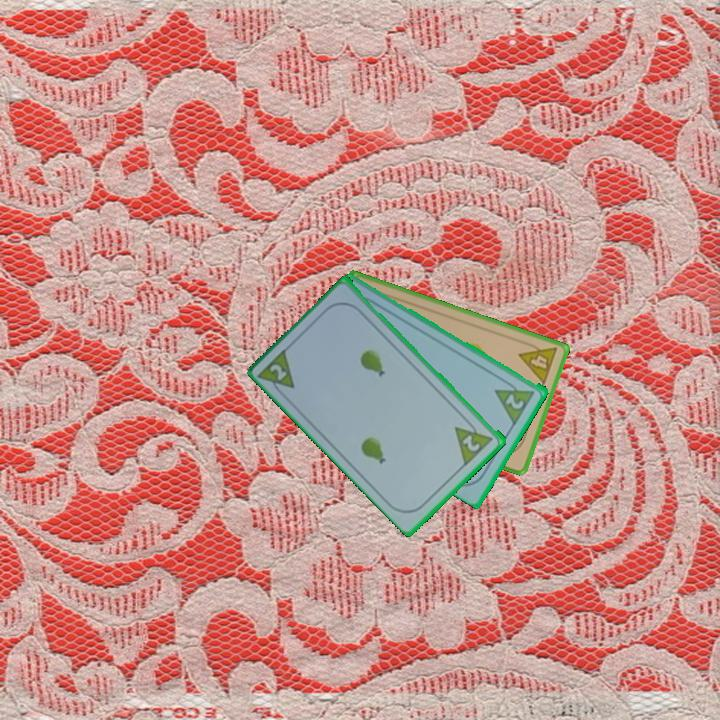2p: (451, 414, 497, 467), (491, 375, 538, 426), (266, 360, 290, 384)
4p: (515, 337, 560, 387)
